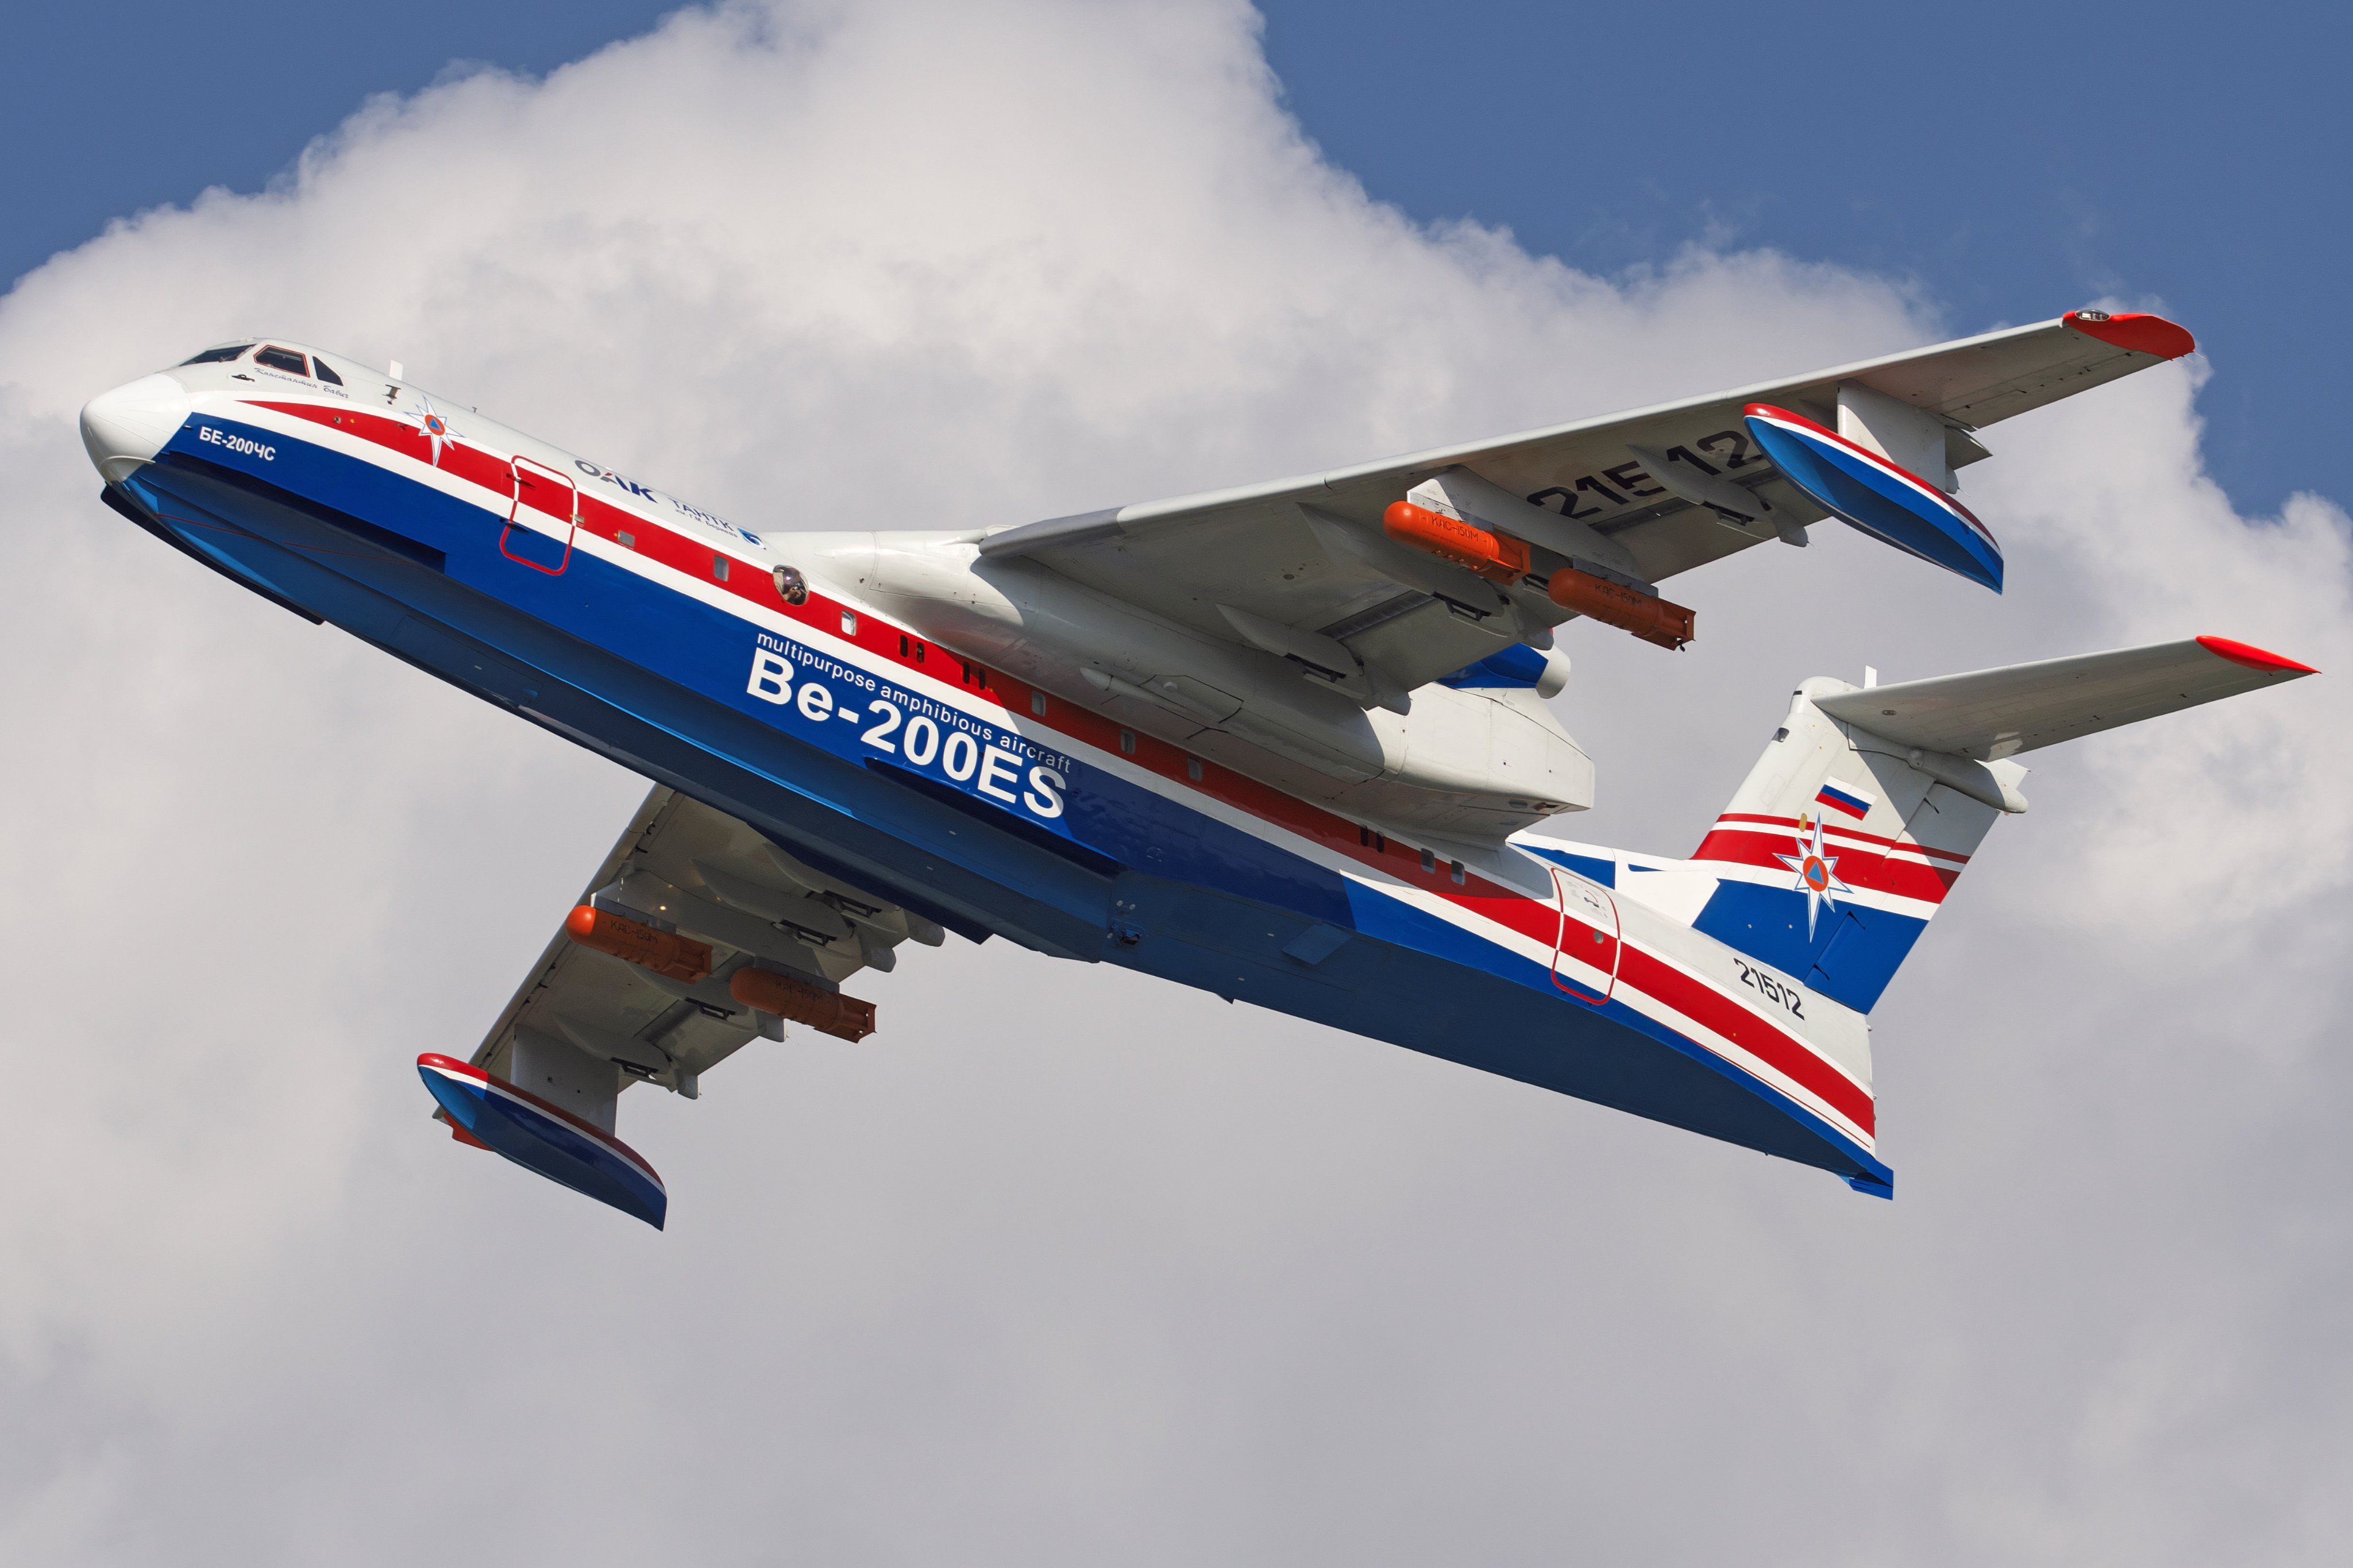airplane: (80, 308, 2332, 1232)
